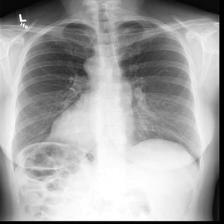normal: (9, 17, 204, 179)
